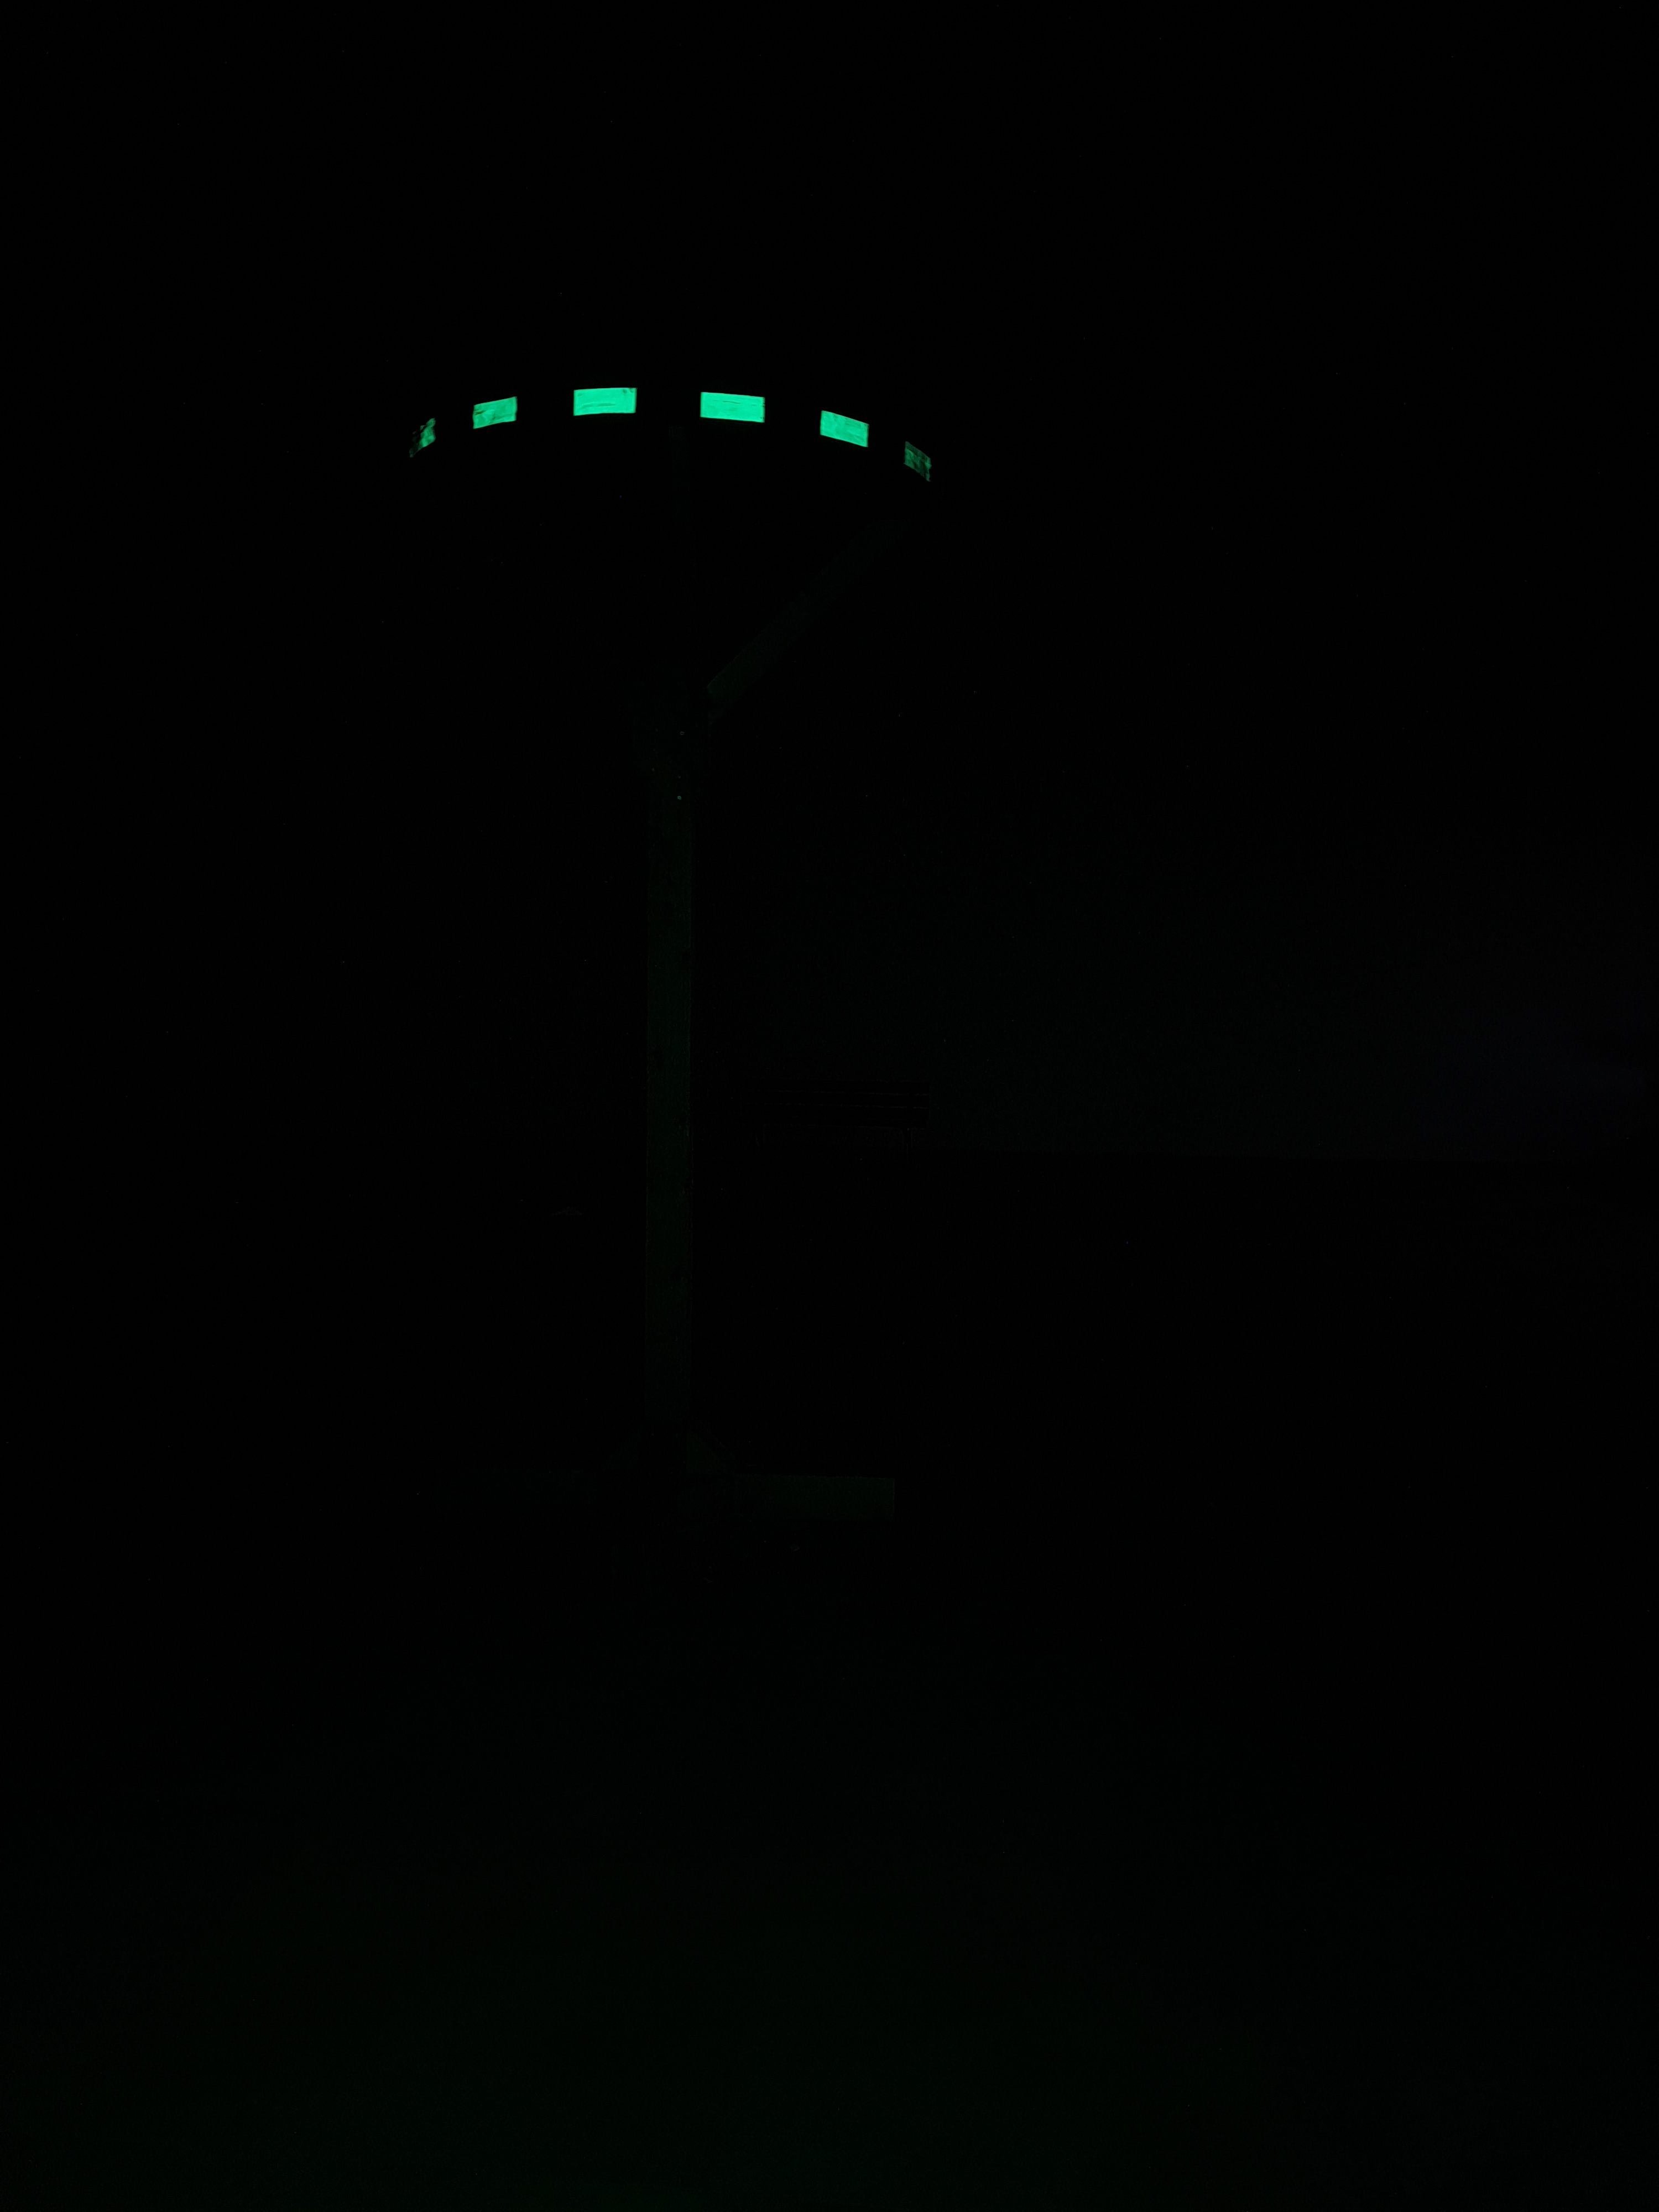hoop: (390, 371, 939, 502)
